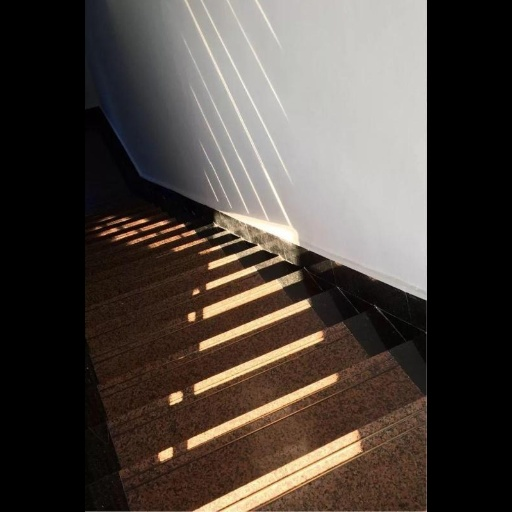Stairs: (88, 166, 426, 510)
